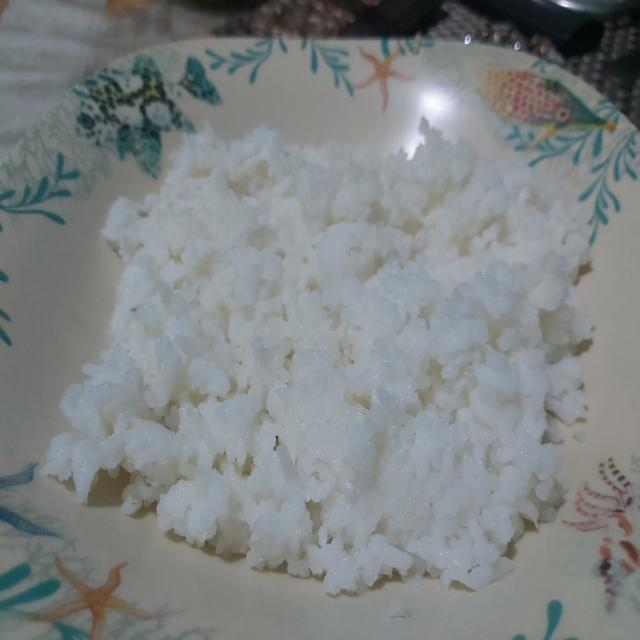Chicken -Chicken Inasal-: (105, 110, 574, 575)
